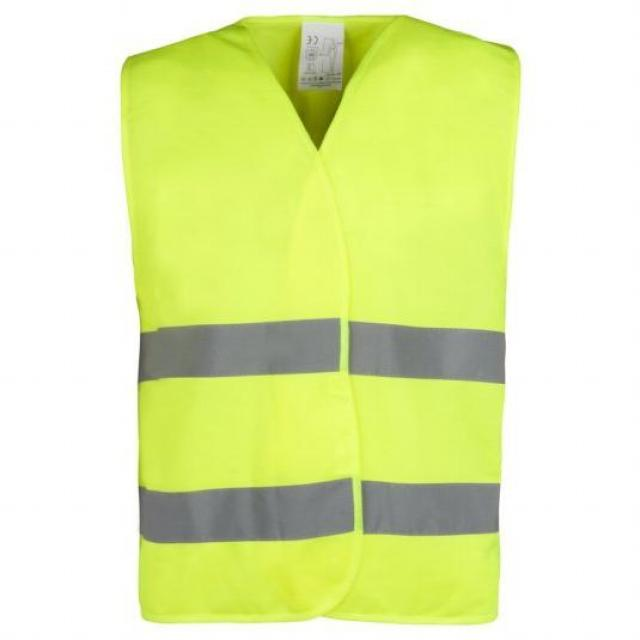reflective_jacket: (55, 0, 570, 639)
